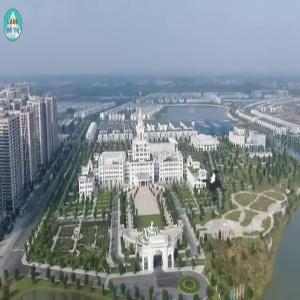drone: (182, 151, 254, 223)
